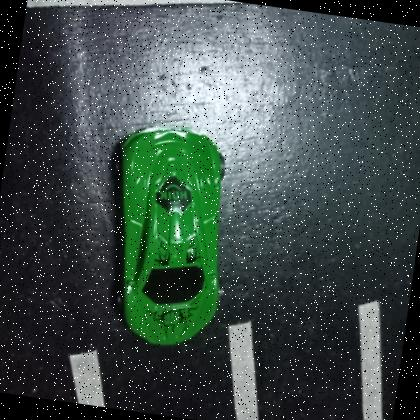Car: (88, 121, 244, 355)
